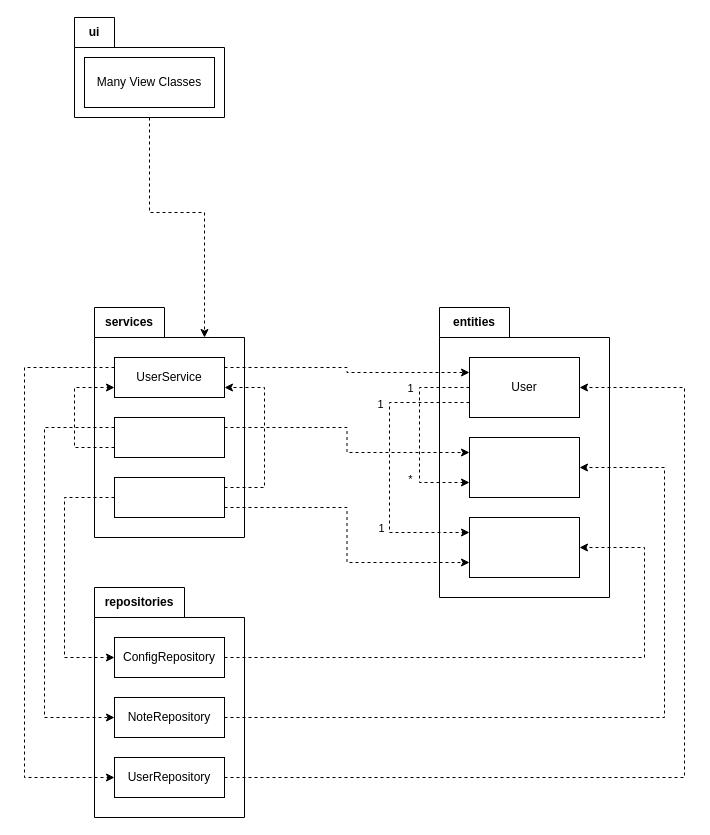
The diagram is 710 pixels wide and 835 high, and some of its shapes have lost their labels. Each missing label, with the centre of its shape:
"Config" goes at [524,547].
"ConfigService" goes at [169,497].
"Note" goes at [524,467].
"NoteService" goes at [169,437].
